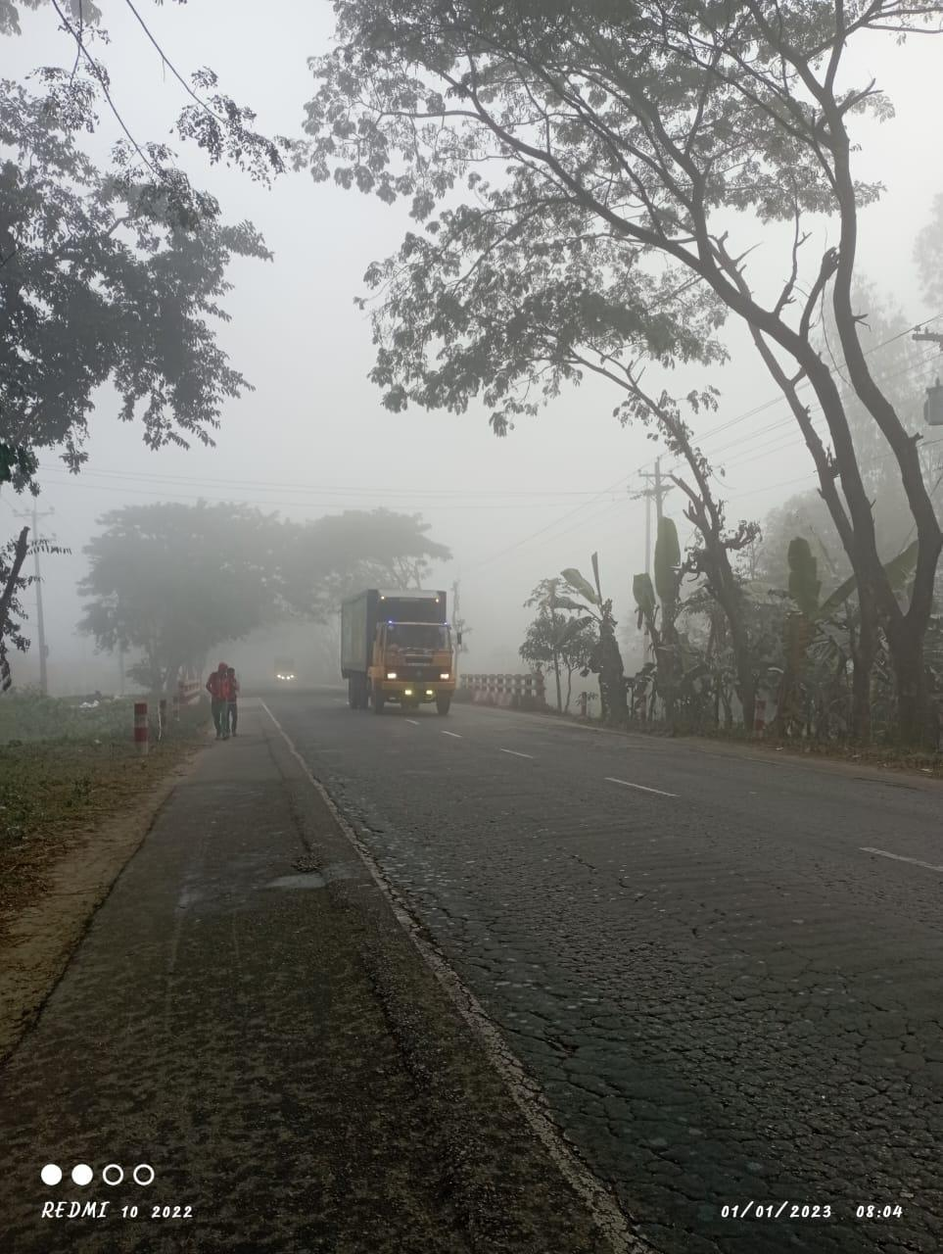Truck: (327, 581, 478, 716)
